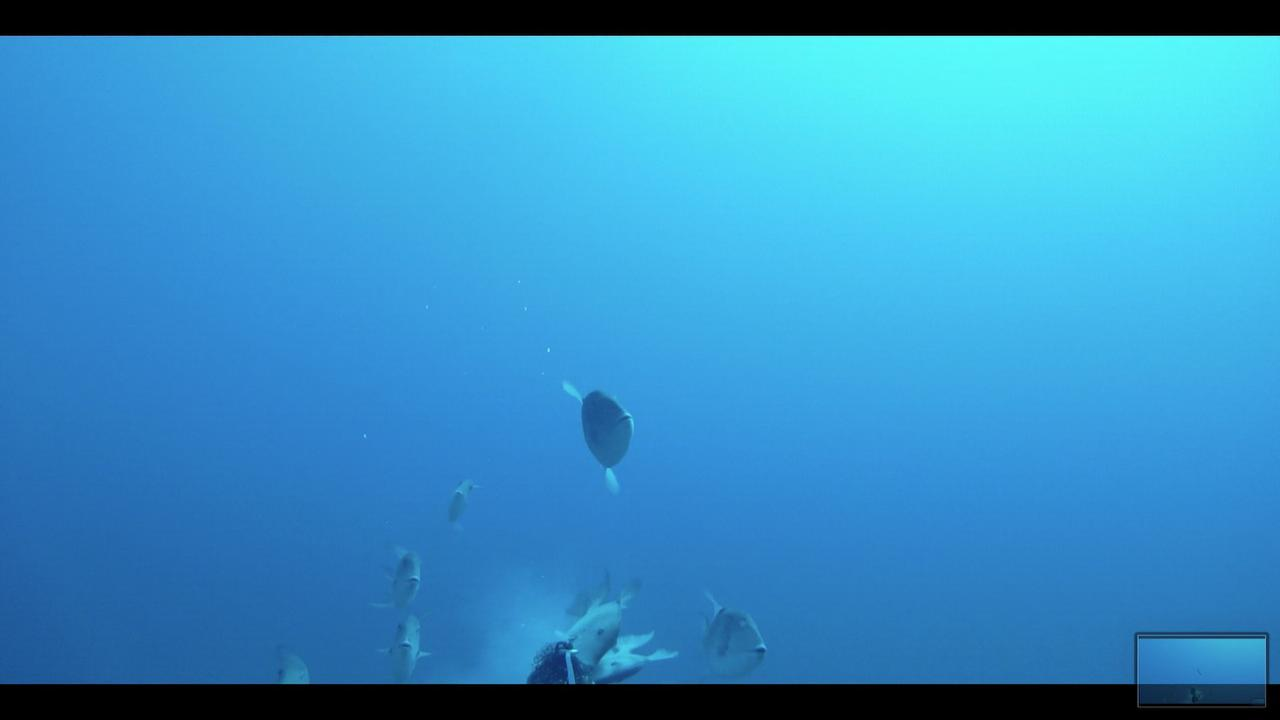balistes: (553, 378, 642, 496), (682, 582, 777, 682), (372, 602, 438, 677), (436, 465, 487, 543), (365, 540, 421, 611)
